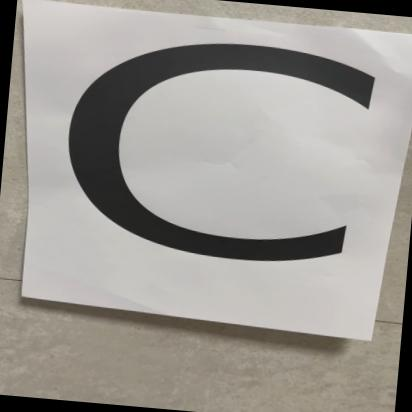seat: (19, 4, 395, 331)
